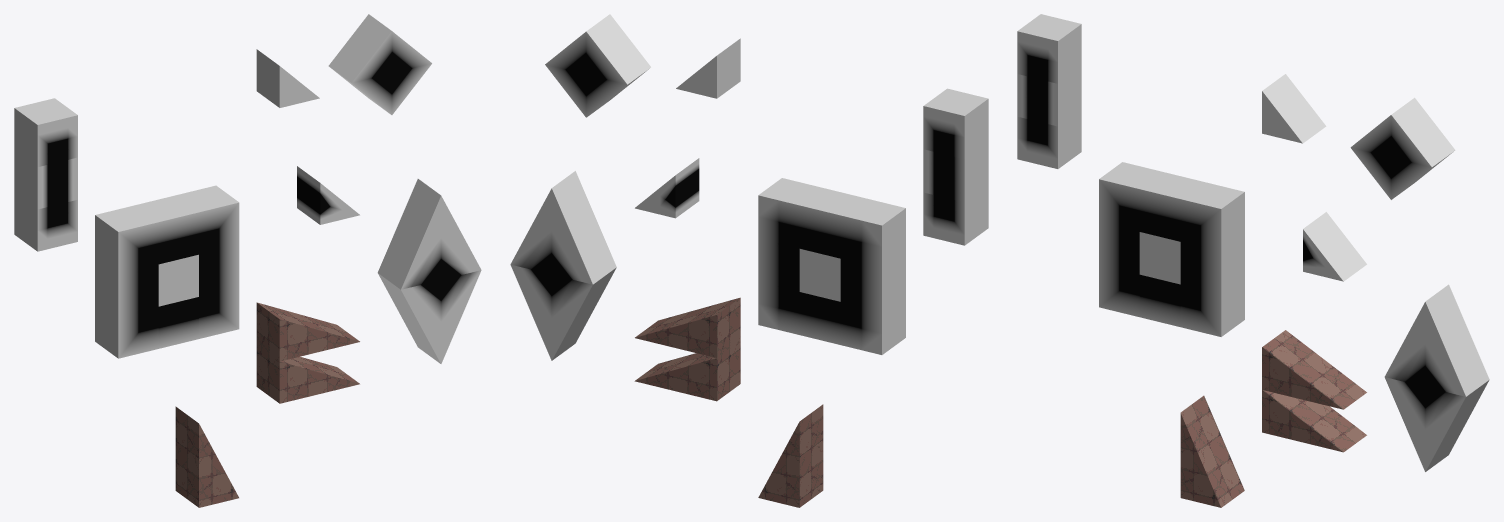
Rendered from RockTileFullSet.fbx.
3 views of the same model, side by side, from view 1: azimuth 30°, elevation 25°; view 2: azimuth 150°, elevation 25°; view 3: azimuth 330°, elevation 25° (orthographic). The views are drawn at different scales.
Visible parts, largest first — view 1: Cube.007, Cube.009, BasicTile_OctoOuterCorner, BasicTile_ColumnCapBottom.001, Cube.012, Cube.013, Cube.006, Cube.002, BasicTile_ColumnCenter, BasicTile_ColumnCapBottom, BasicTile_OctoOuterCorner.002, BasicTile_OctoOuterMiddle.003 (+13 smaller); view 2: Cube.007, Cube.009, BasicTile_OctoOuterCorner, BasicTile_ColumnCapBottom.001, Cube.012, Cube.013, Cube.006, Cube.002, BasicTile_ColumnCenter, BasicTile_ColumnCapBottom, BasicTile_OctoOuterMiddle.003, BasicTile_OctoOuterCorner.002 (+13 smaller); view 3: Cube.009, Cube.005, Cube.012, Cube.013, BasicTile_OctoOuterCorner.001, BasicTile_ColumnCapBottom.001, Cube.008, Cube.001, Cube.011, Cube.010, BasicTile_OctoOuterMiddle.002, BasicTile_ColumnCenter (+13 smaller).
Part boxes in pixels (x1,y1,x2,y2): Cube.007: (377,179,441,289); Cube.009: (175,406,238,507); BasicTile_OctoOuterCorner: (95,205,158,274); BasicTile_ColumnCapBottom.001: (14,98,77,166); Cube.012: (256,302,359,361); Cube.013: (256,345,359,403); Cube.006: (378,273,441,363); Cube.002: (328,14,391,82); BasicTile_ColumnCenter: (14,150,77,209); BasicTile_ColumnCapBottom: (14,192,77,251); BasicTile_OctoOuterCorner.002: (95,299,158,358); BasicTile_OctoOuterMiddle.003: (95,257,158,316); Cube.007: (551,171,616,284); Cube.009: (758,404,823,507); BasicTile_OctoOuterCorner: (840,198,905,268); BasicTile_ColumnCapBottom.001: (923,88,988,159); Cube.012: (635,297,740,357); Cube.013: (634,341,740,401); Cube.006: (551,267,616,360); Cube.002: (586,14,650,84); BasicTile_ColumnCenter: (923,142,988,202); BasicTile_ColumnCapBottom: (923,185,988,245); BasicTile_OctoOuterMiddle.003: (840,251,905,311); BasicTile_OctoOuterCorner.002: (840,295,905,354); Cube.009: (1180,395,1244,507); Cube.005: (1425,284,1489,396); Cube.012: (1262,330,1366,409); Cube.013: (1262,390,1366,452); BasicTile_OctoOuterCorner.001: (1180,182,1244,251); BasicTile_ColumnCapBottom.001: (1017,14,1081,83); Cube.008: (1425,380,1489,471); Cube.001: (1391,97,1455,167); Cube.011: (1262,74,1326,143); Cube.010: (1303,212,1366,281); BasicTile_OctoOuterMiddle.002: (1180,235,1244,294); BasicTile_ColumnCenter: (1017,67,1081,126).
Bounding box in the file's own units: 2200 × 2000 × 266.
